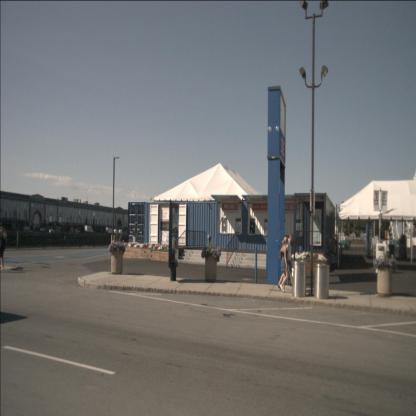human-pedestrian-adult: (278, 234, 296, 291), (278, 236, 289, 292), (0, 221, 7, 269)
